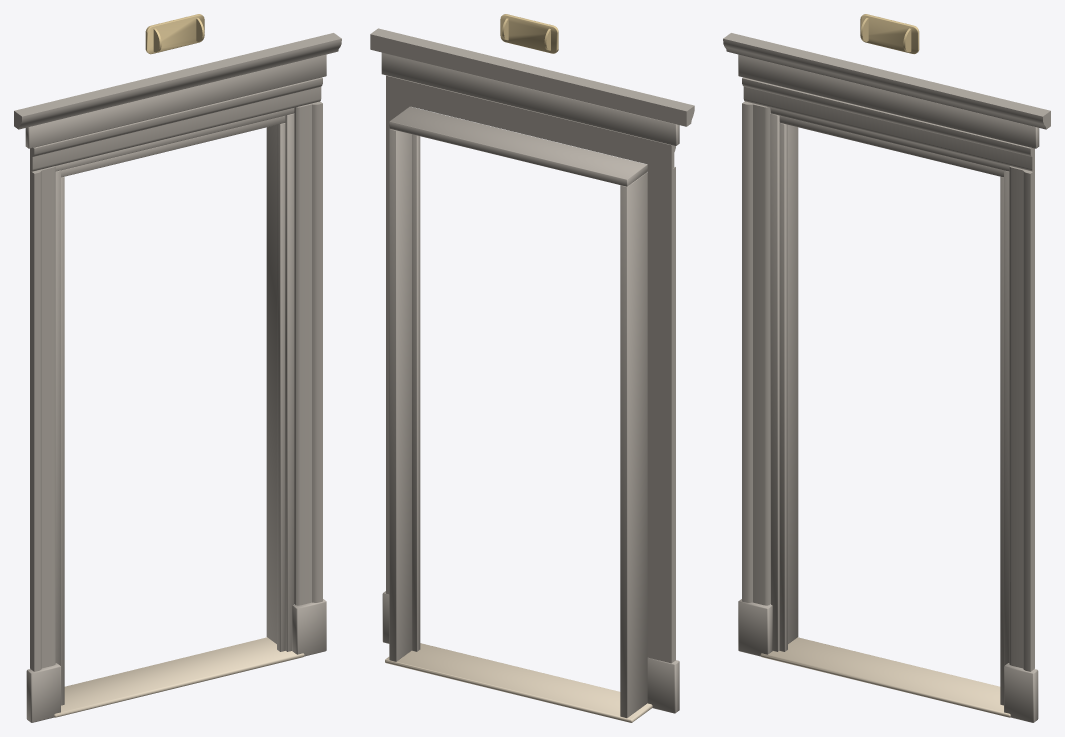
Rendered from Corridor_DoorFrame.fbx.
3 views of the same model, side by side, from view 1: azimuth 30°, elevation 25°; view 2: azimuth 150°, elevation 25°; view 3: azimuth 330°, elevation 25° (orthographic).
Visible parts, largest first — view 1: Corridor_DoorFrame; view 2: Corridor_DoorFrame; view 3: Corridor_DoorFrame.
Part boxes in pixels (<box>): Corridor_DoorFrame: <box>14,14,341,722</box>; Corridor_DoorFrame: <box>370,14,694,722</box>; Corridor_DoorFrame: <box>723,14,1050,722</box>.
Bounding box in the file's own units: 1.33 × 2.64 × 0.207.
